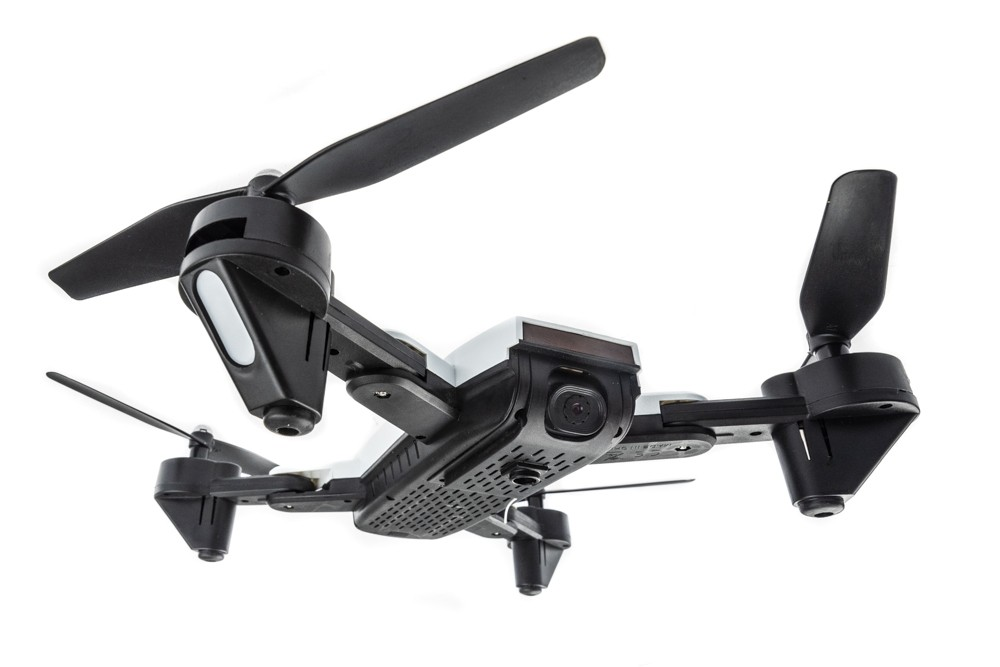drone: (39, 28, 928, 604)
